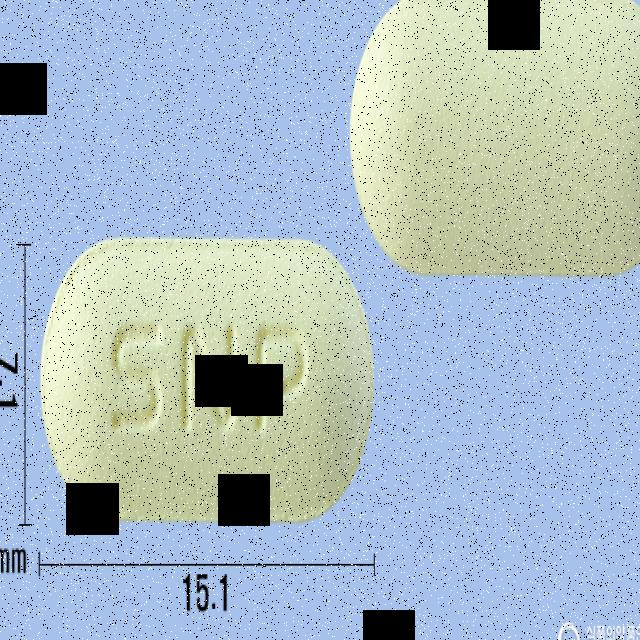A Progen Clarithromycin Tab: (41, 236, 377, 522)
